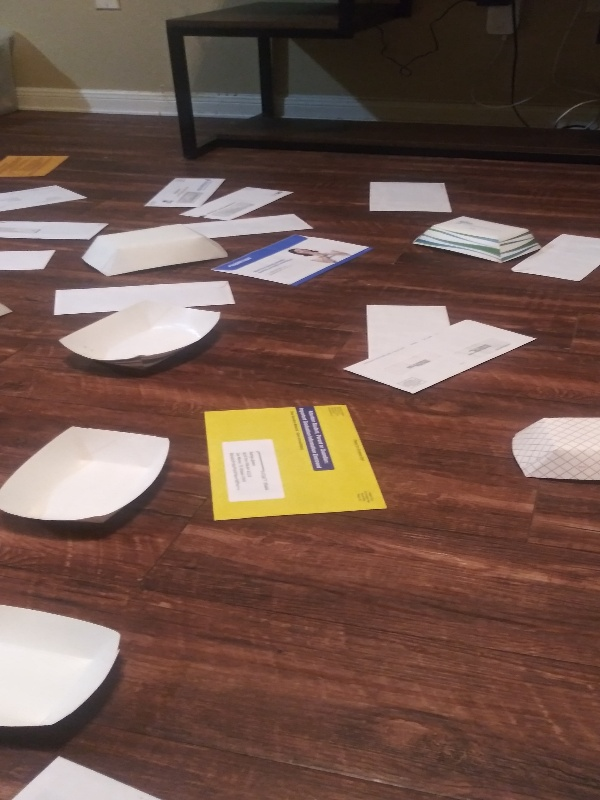plate: (1, 420, 173, 533), (1, 600, 127, 736), (52, 295, 228, 378), (76, 221, 230, 280), (405, 214, 547, 268), (504, 411, 600, 485)
